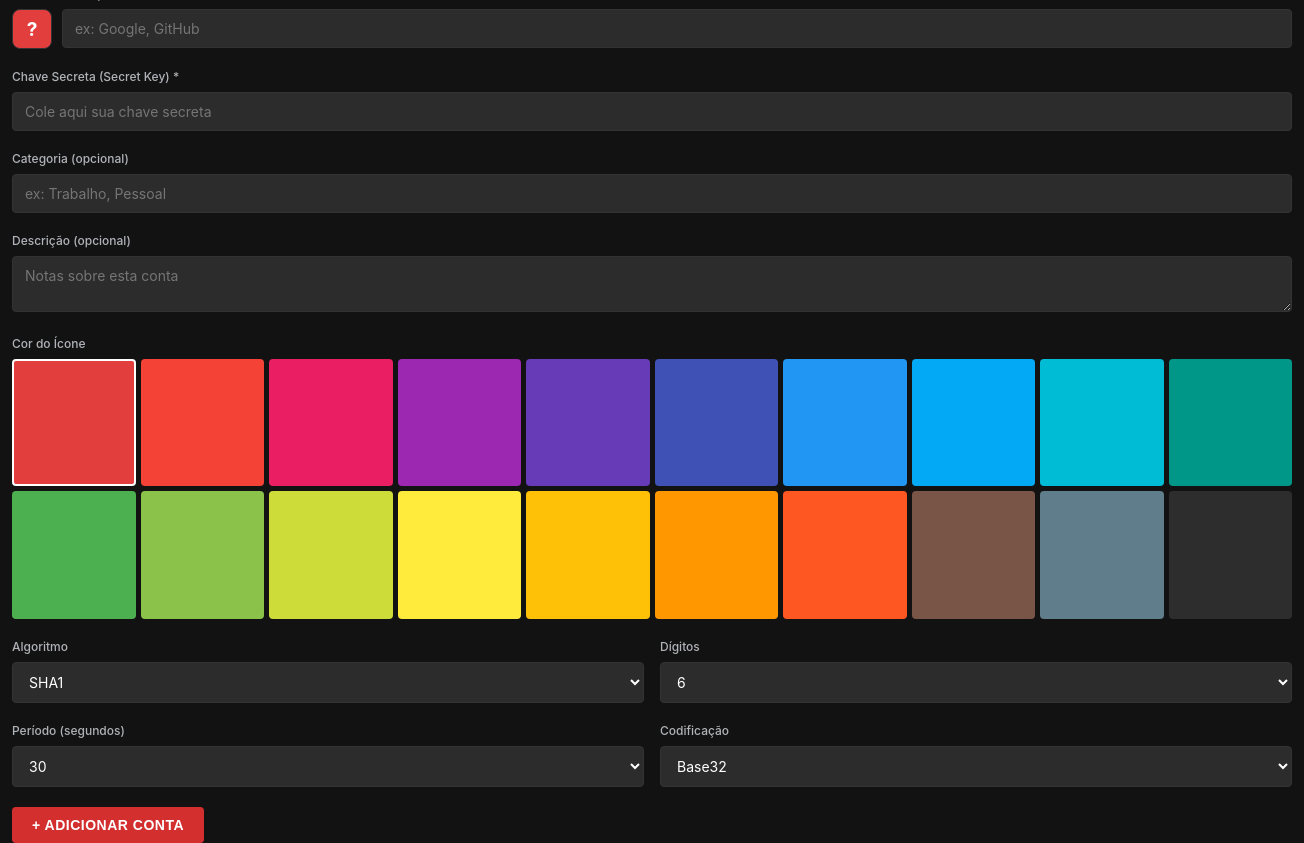
Test: AddItemForm › handles validation errors and clears them
(page scrolled)
Click the button "+ Adicionar Conta".
click(108, 825)  # box [12,807,204,842]
(page scrolled)
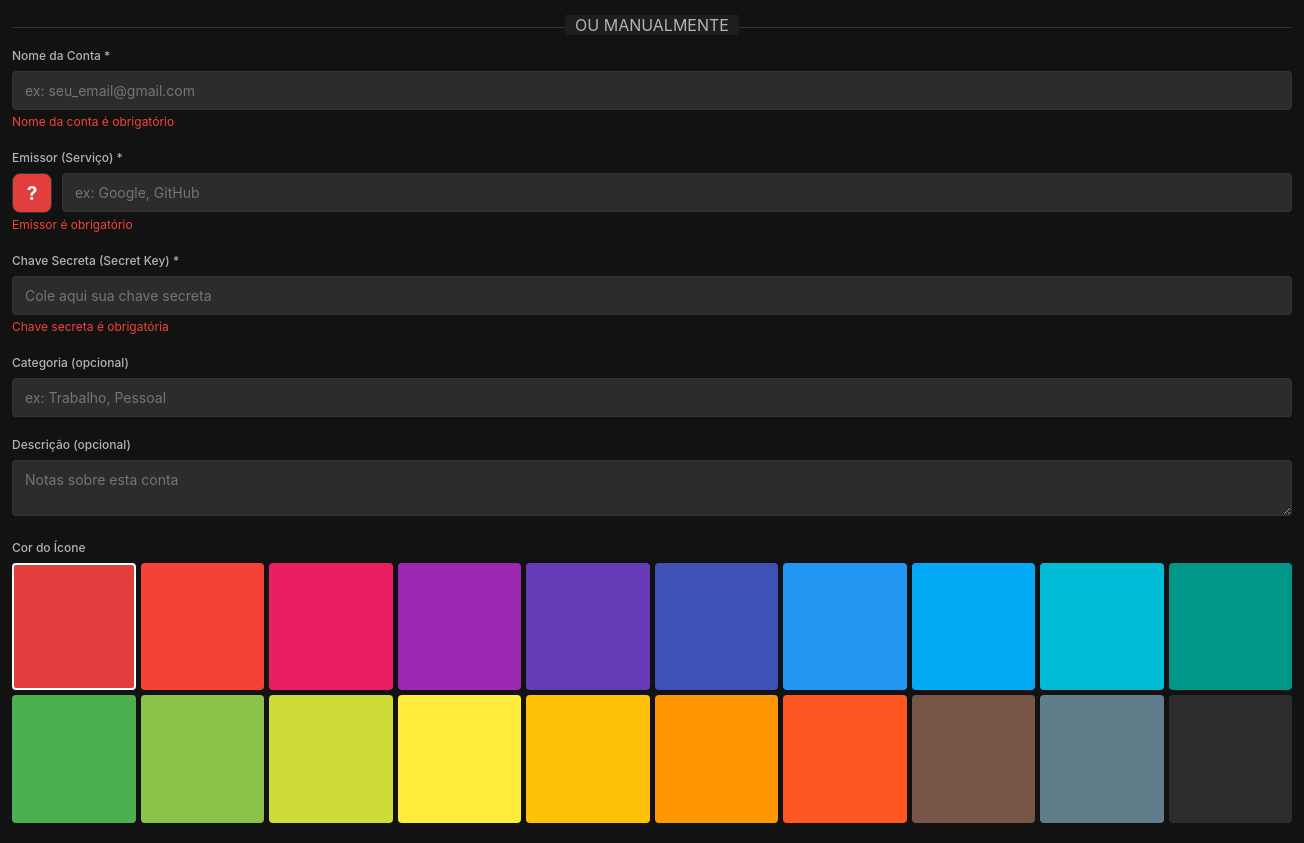
Expected: the text "Nome da conta é obrigatório" is shown, [12,114,174,129]
Expected: the text "Emissor é obrigatório" is shown, [12,217,133,232]
Expected: the text "Chave secreta é obrigatória" is shown, [12,319,169,334]
Note: Clear error by typing
Type "a" into the field with placeholder "ex: seu_email@gmail.com".
click(652, 90); type("a")  # box [12,71,1292,110]
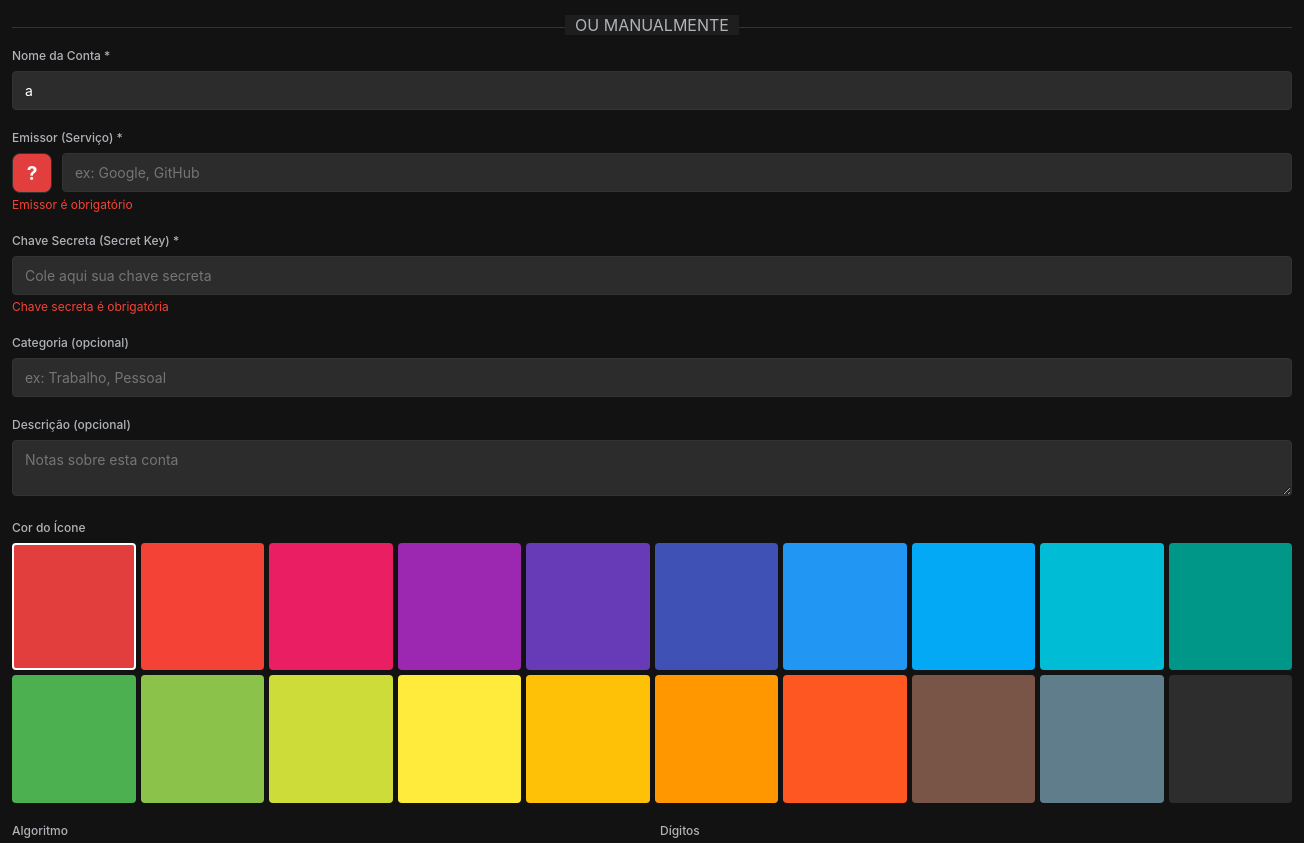
Expected: the text "Nome da conta é obrigatório" is gone
